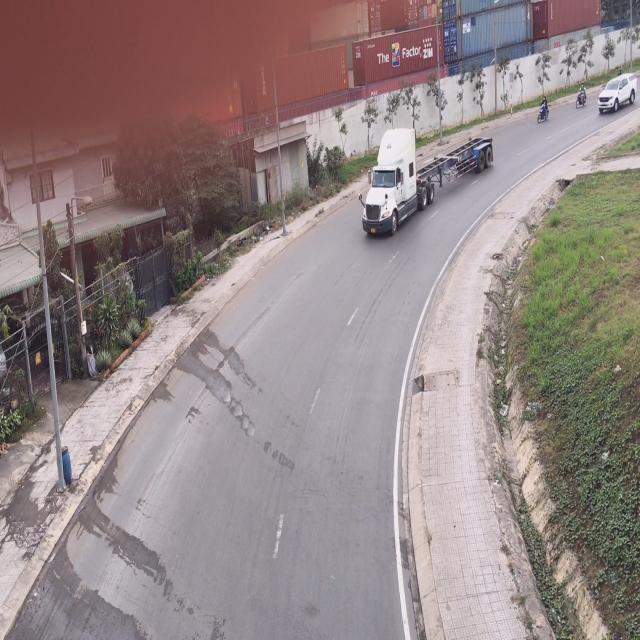car: (600, 73, 637, 117)
motorbike: (537, 87, 549, 124), (576, 82, 586, 111)
truck: (362, 127, 495, 239)
